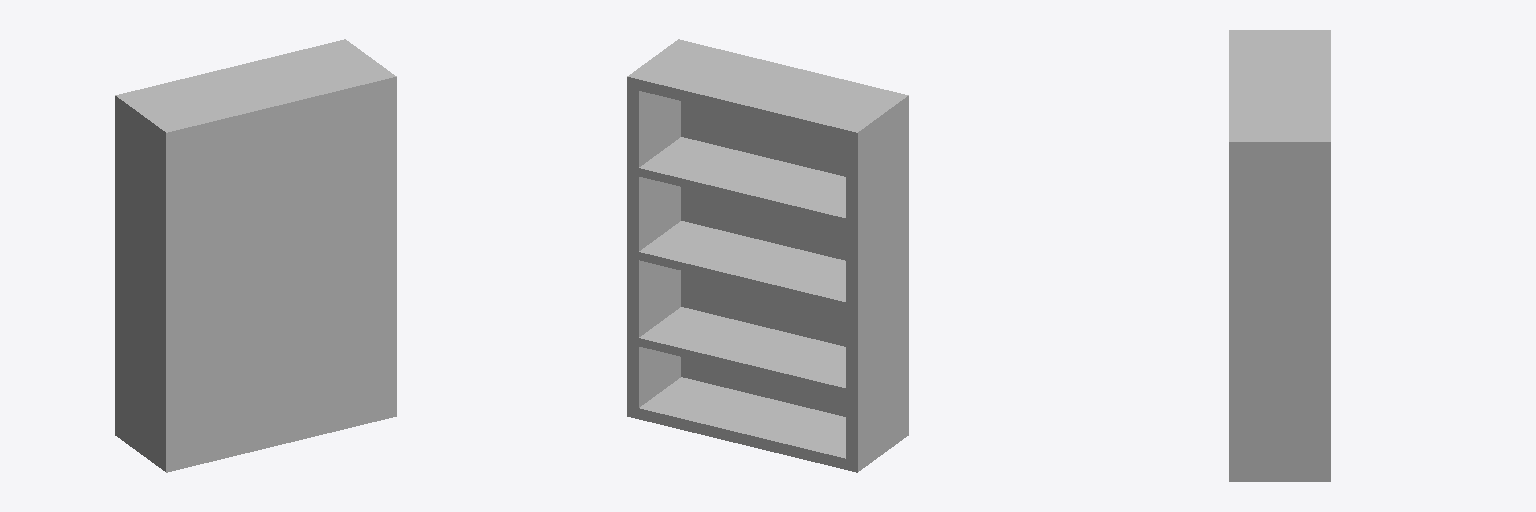
Rendered from shelf_arikel-CC0.obj.
3 renders of one model, left to right at view 1: azimuth 30°, elevation 25°; view 2: azimuth 150°, elevation 25°; view 3: azimuth 270°, elevation 25°, orthographic.
Visible parts, largest first — view 1: Cube.006; view 2: Cube.006; view 3: Cube.006.
Boxes of the visible parts, <box> form: Cube.006: <box>115,39,396,472</box>; Cube.006: <box>627,39,908,472</box>; Cube.006: <box>1229,30,1330,481</box>.
Size of the model in its own units: 1.41 by 1.98 by 0.5409.